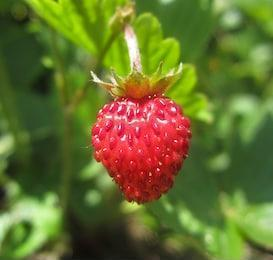Fresa: (88, 72, 197, 206)
